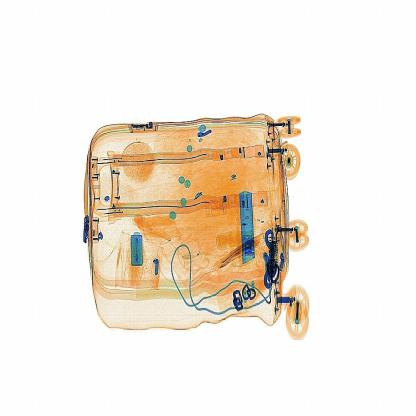pliers: (231, 179, 263, 268)
